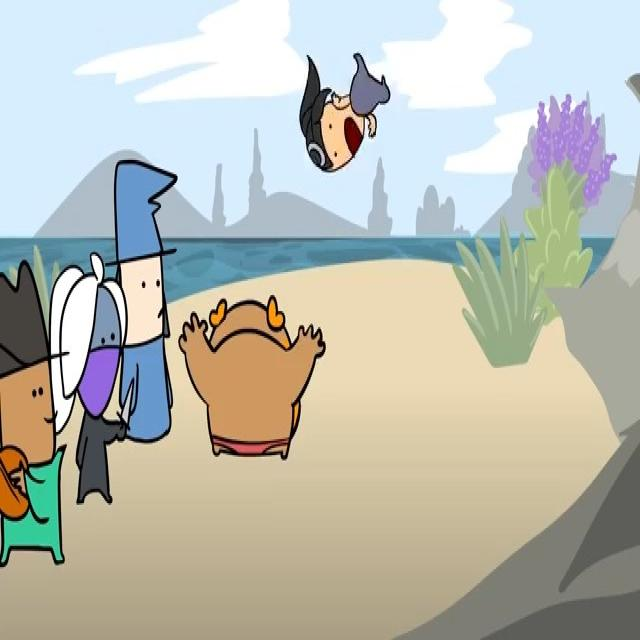Banjovi: (0, 259, 67, 568)
Haagen-Daz: (178, 295, 326, 460)
Josh: (105, 160, 178, 443)
miss Demeanor: (48, 252, 127, 504)
